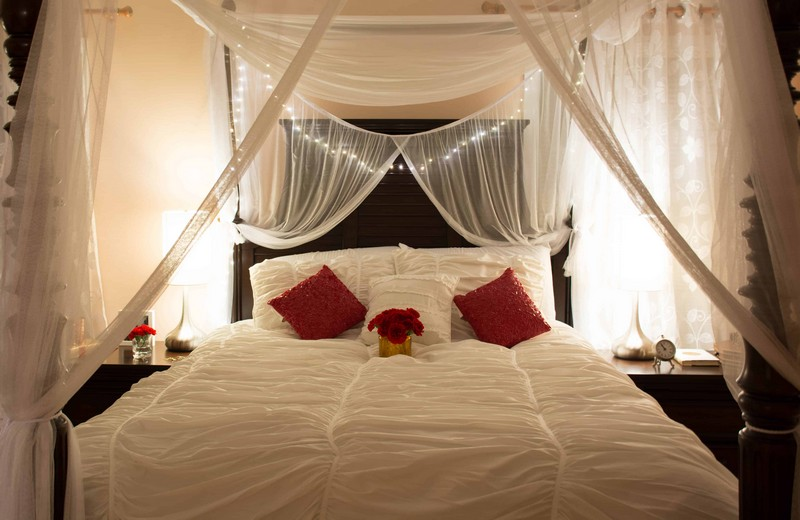bed: (70, 37, 739, 512)
lamp: (603, 213, 673, 368), (156, 204, 216, 354)
